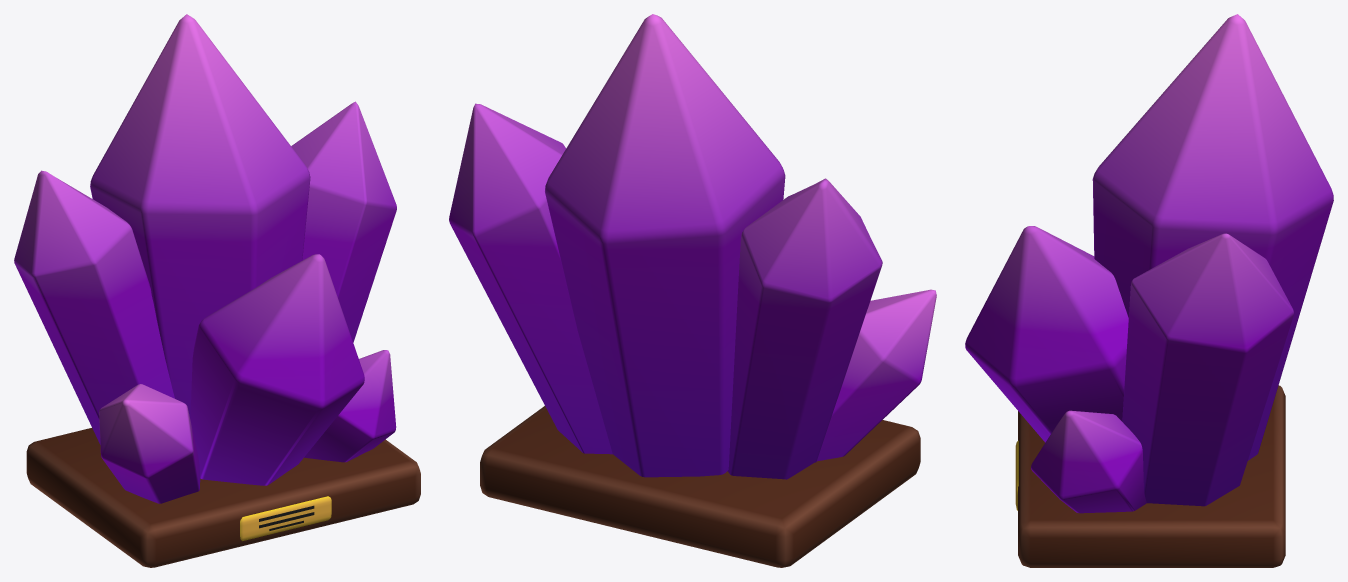
The model's file is crystals.fbx.
The picture shows the model from 3 angles, left to right: view 1: azimuth 30°, elevation 25°; view 2: azimuth 150°, elevation 25°; view 3: azimuth 270°, elevation 25°; orthographic projection. The views are drawn at different scales.
Visible parts, largest first — view 1: cyrstals, crystals_bottom; view 2: cyrstals, crystals_bottom; view 3: cyrstals, crystals_bottom.
Part boxes in pixels (left/top/right/bottom): cyrstals: left=14, top=14, right=396, bottom=503; crystals_bottom: left=26, top=428, right=420, bottom=567; cyrstals: left=449, top=14, right=936, bottom=479; crystals_bottom: left=480, top=406, right=920, bottom=567; cyrstals: left=965, top=14, right=1333, bottom=513; crystals_bottom: left=1015, top=385, right=1285, bottom=567.
Bounding box in the file's own units: 1.2 × 1.44 × 0.991.
